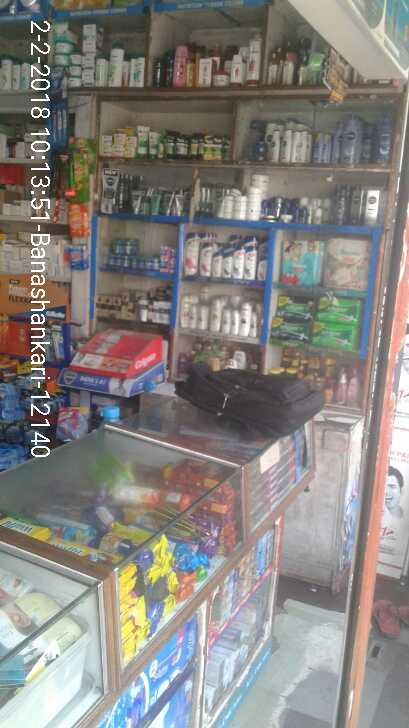beauty: (182, 231, 200, 274), (150, 299, 173, 326), (237, 299, 251, 337), (230, 244, 244, 280), (180, 291, 193, 327), (245, 244, 257, 282), (208, 295, 221, 330), (207, 251, 222, 278), (198, 245, 210, 276), (195, 303, 207, 330), (188, 302, 198, 330), (137, 299, 149, 321), (223, 253, 233, 279), (93, 292, 103, 316), (230, 307, 239, 333), (220, 308, 229, 334), (111, 295, 119, 319), (104, 295, 111, 317)
pharmacy: (278, 237, 318, 284), (312, 318, 365, 350), (318, 295, 364, 326), (268, 316, 314, 345), (278, 295, 319, 319), (113, 237, 127, 257), (126, 239, 140, 256)
